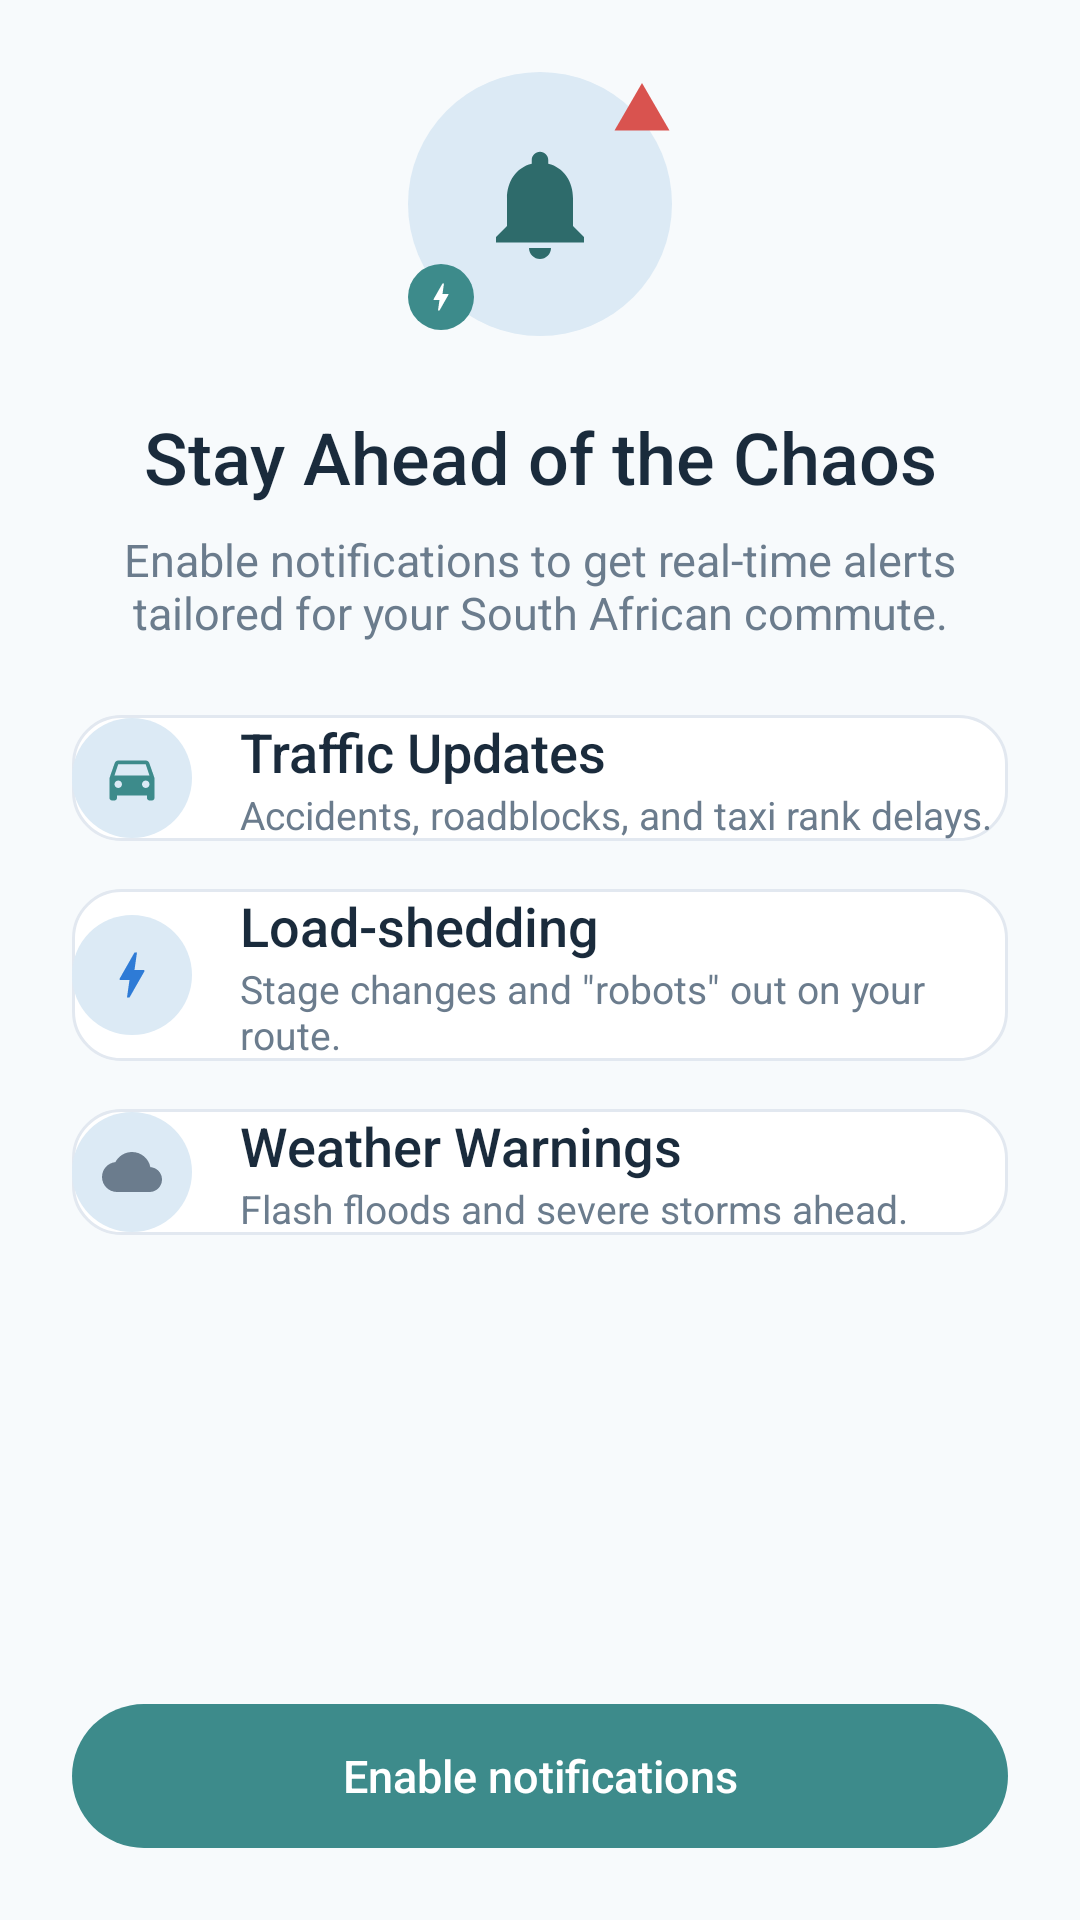

Screen size 1080w x 1920h. Icon name, then its center in pixels as point (x, y):
bolt: point (441, 297), point (132, 975)
cloud: point (132, 1172)
directions car: point (132, 780)
notifications: point (540, 205)
warning: point (641, 110)
